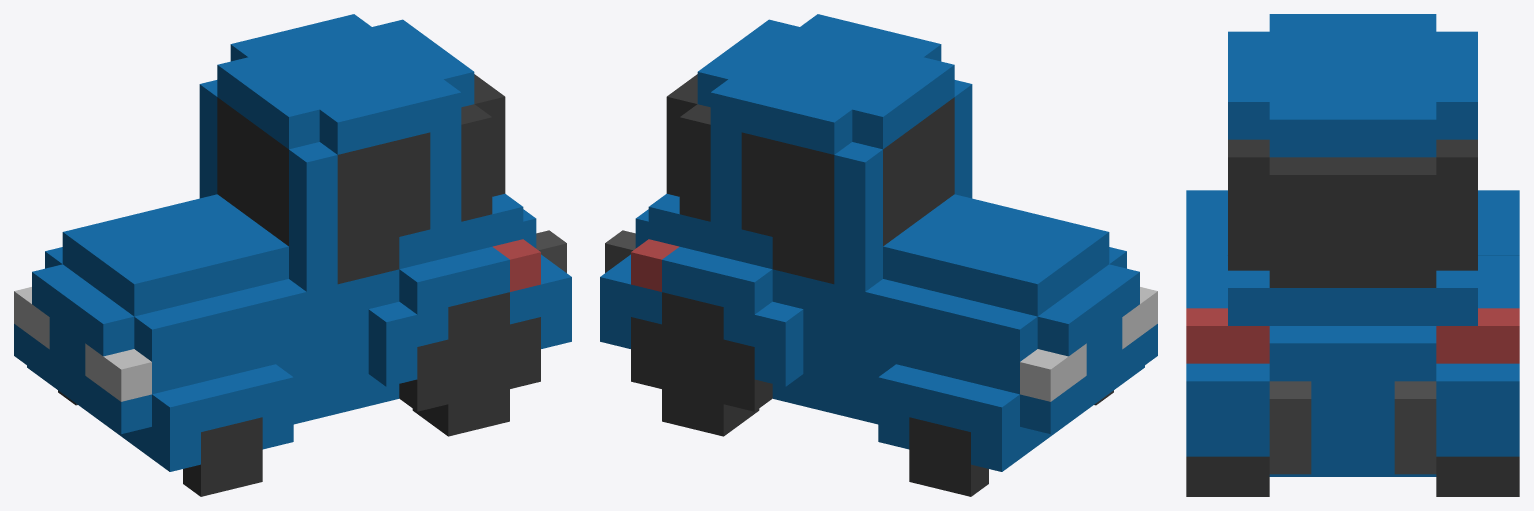
File: tractor-blue.gltf
The picture shows the model from 3 angles, left to right: view 1: azimuth 30°, elevation 25°; view 2: azimuth 150°, elevation 25°; view 3: azimuth 270°, elevation 25°; orthographic projection. The views are drawn at different scales.
Visible parts, largest first — view 1: model, wheels; view 2: model, wheels; view 3: model, wheels.
Part boxes in pixels (left/top/right/bottom): model: left=14, top=14, right=571, bottom=471; wheels: left=58, top=292, right=540, bottom=496; model: left=600, top=14, right=1157, bottom=471; wheels: left=631, top=292, right=1113, bottom=496; model: left=1186, top=14, right=1519, bottom=476; wheels: left=1186, top=456, right=1519, bottom=496.
Size of the model in its own units: 1.5 by 1 by 0.8.
Materials: 2 (2 with a texture image).
